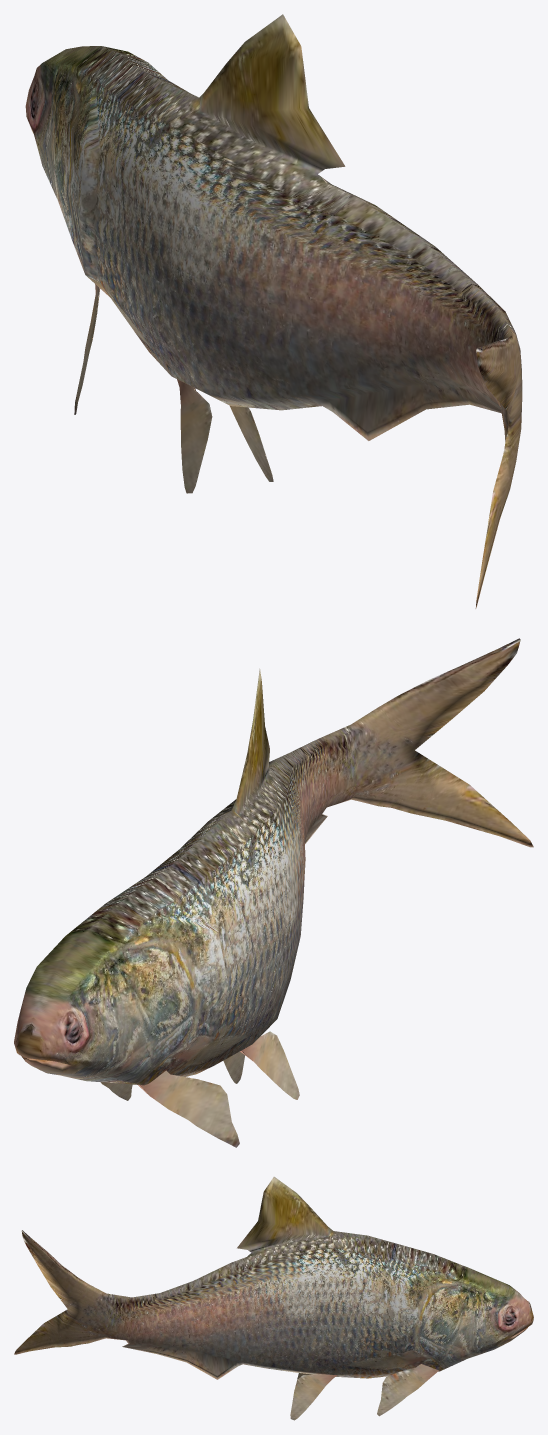
The model's file is 3_ilish.fbx.
The picture shows the model from 3 angles, top to bottom: view 1: azimuth 30°, elevation 25°; view 2: azimuth 150°, elevation 25°; view 3: azimuth 270°, elevation 25°; orthographic projection. The views are drawn at different scales.
Parts seen in each view (by area): view 1: Main; view 2: Main; view 3: Main.
Boxes of the visible parts, x1,y1,x2,y2 form: Main: [25, 14, 522, 608]; Main: [14, 638, 533, 1147]; Main: [14, 1176, 533, 1420].
Size of the model in its own units: 4.36 by 11.17 by 21.72.
